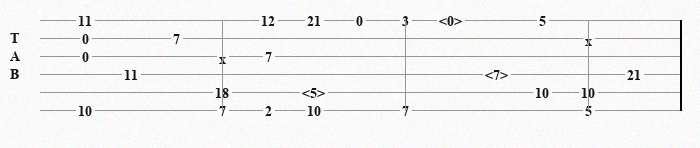0: (82, 31, 93, 45), (82, 49, 93, 63), (356, 13, 367, 27)
10: (78, 103, 96, 117), (307, 103, 325, 117), (535, 85, 553, 99), (581, 85, 599, 99)
11: (78, 13, 96, 27), (124, 67, 142, 81)
12: (261, 13, 279, 27)
18: (215, 85, 233, 99)
2: (265, 103, 276, 117)
21: (307, 13, 325, 27), (627, 67, 645, 81)
3: (402, 13, 413, 27)
5: (539, 13, 550, 27), (585, 103, 596, 117)
7: (173, 31, 184, 45), (219, 103, 230, 117), (265, 49, 276, 63), (402, 103, 413, 117)
harmonic: (302, 85, 329, 99), (439, 13, 466, 27), (485, 67, 512, 81)
x: (219, 51, 230, 62), (585, 33, 596, 44)
